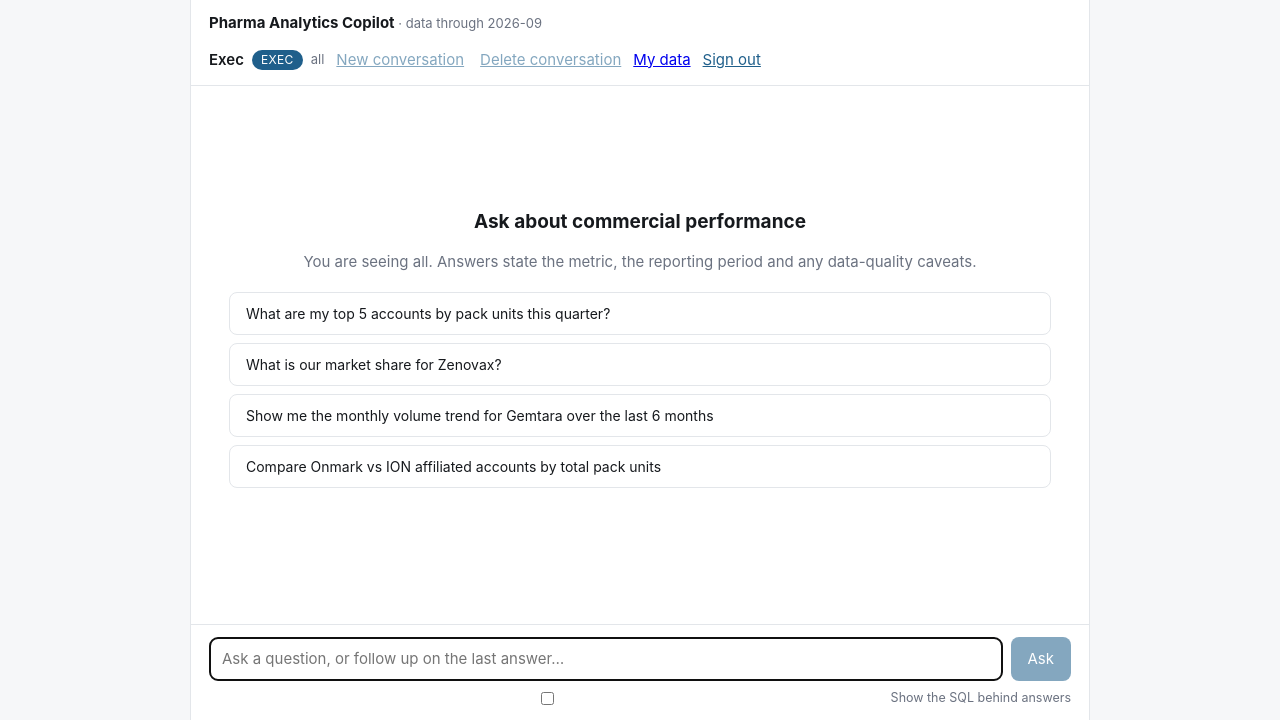
API v2 in the interface › does not retry a refusal that a retry cannot change
The width and height of the screenshot is (1280, 720).
Expected: the button "New conversation" is shown, [332,46,468,73]
Type "total volume" into the field with placeholder "Ask a question, or follow up on the last answer…" at {"x": 606, "y": 659}, box [209,636,1002,681]
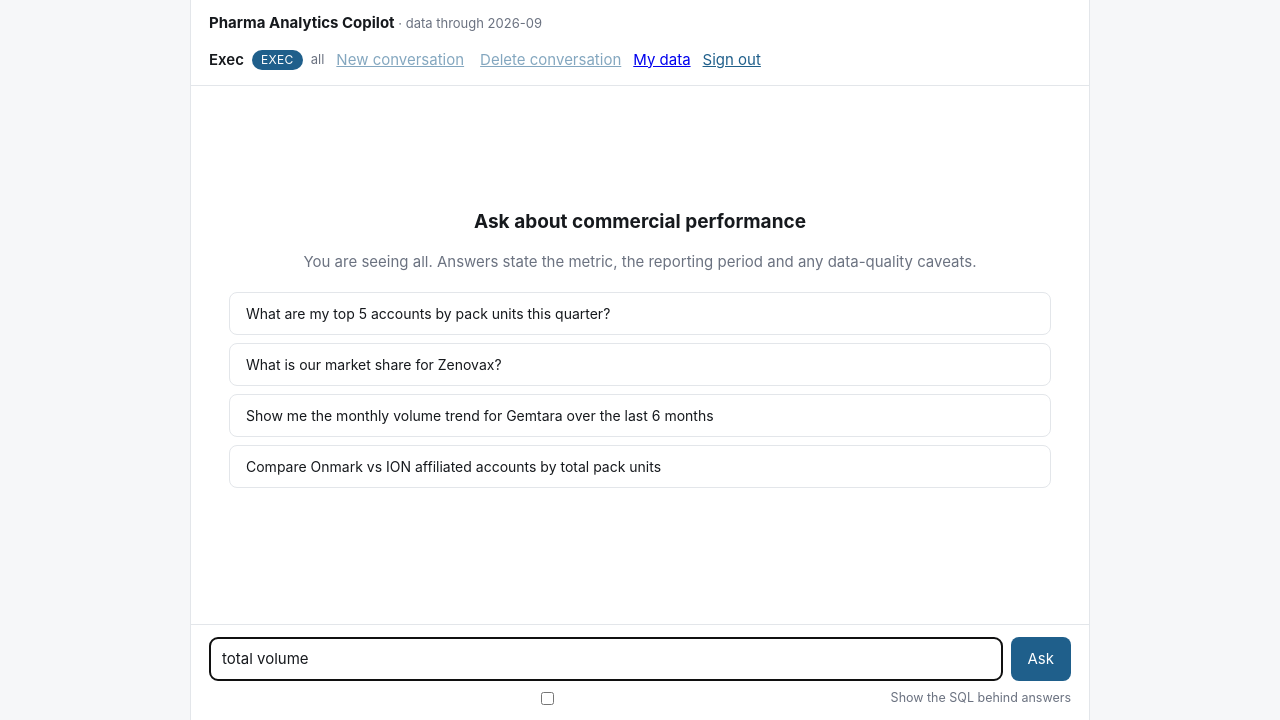
Click the button "Ask" at {"x": 1041, "y": 659}, box [1010,636,1071,681]
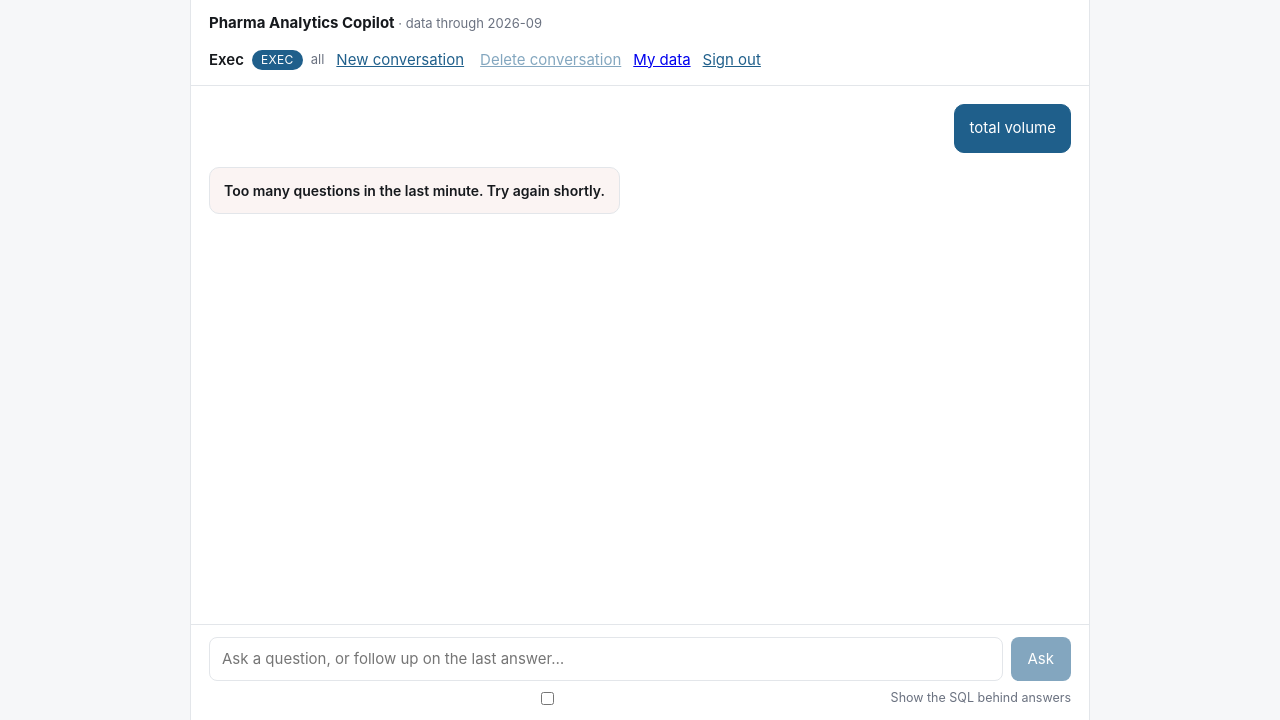
Now the text "Too many questions in the last minute. Try again shortly." is shown, box [224,180,605,200]
